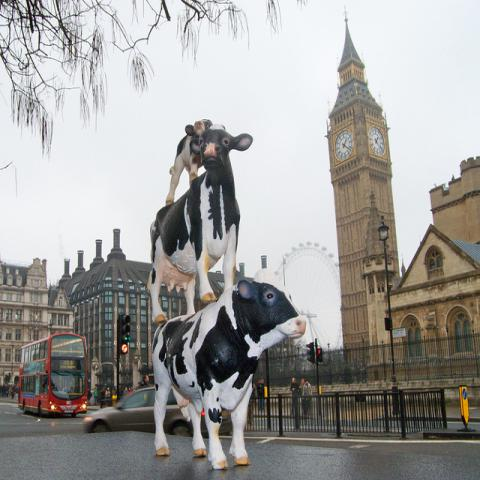bus: (18, 330, 88, 416)
car: (84, 386, 195, 436)
